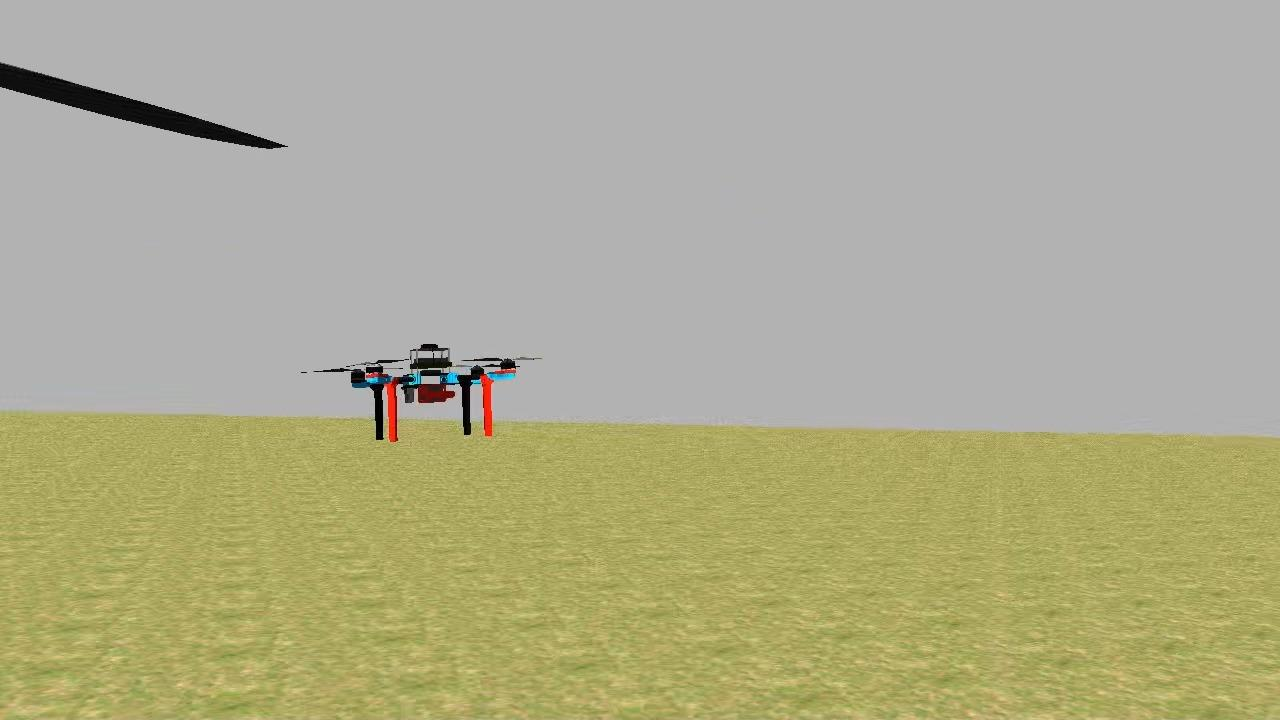UAV: (347, 330, 524, 454)
